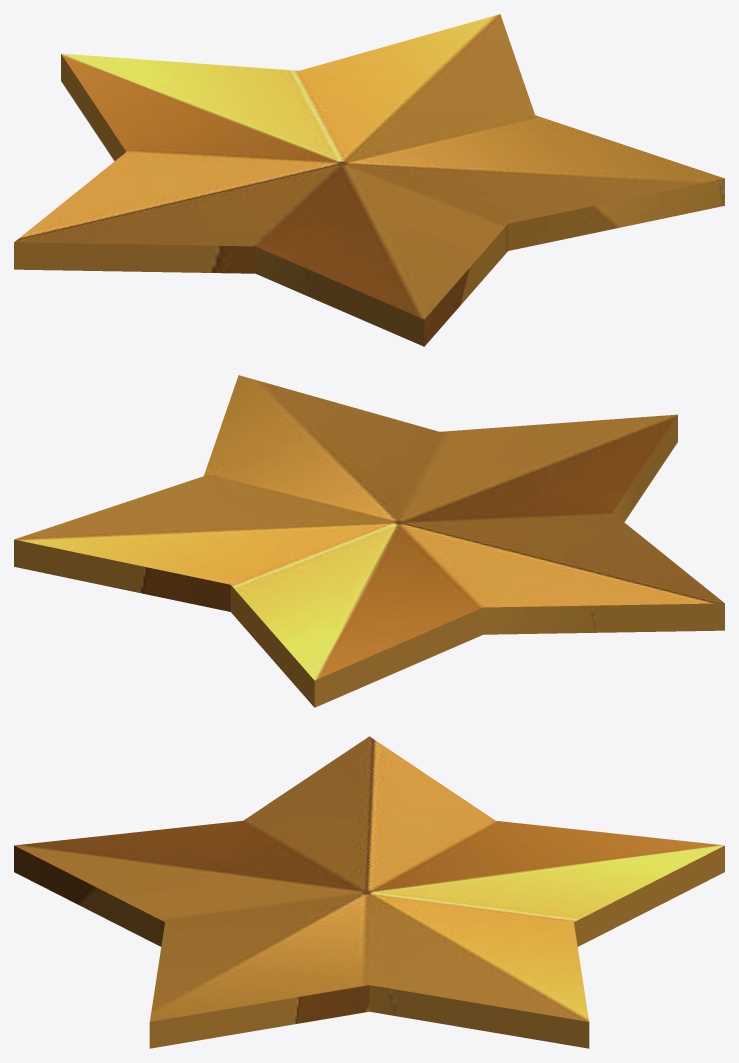
File: star.FBX
3 views of the same model, one above another, from view 1: azimuth 30°, elevation 25°; view 2: azimuth 150°, elevation 25°; view 3: azimuth 270°, elevation 25° (orthographic). The views are drawn at different scales.
Parts seen in each view (by area): view 1: Star001; view 2: Star001; view 3: Star001.
Part boxes in pixels (left/top/right/bottom): Star001: left=14, top=14, right=724, bottom=346; Star001: left=14, top=375, right=724, bottom=707; Star001: left=14, top=736, right=724, bottom=1048.
Size of the model in its own units: 115 by 5 by 121.
Materials: 1 (1 with a texture image).
